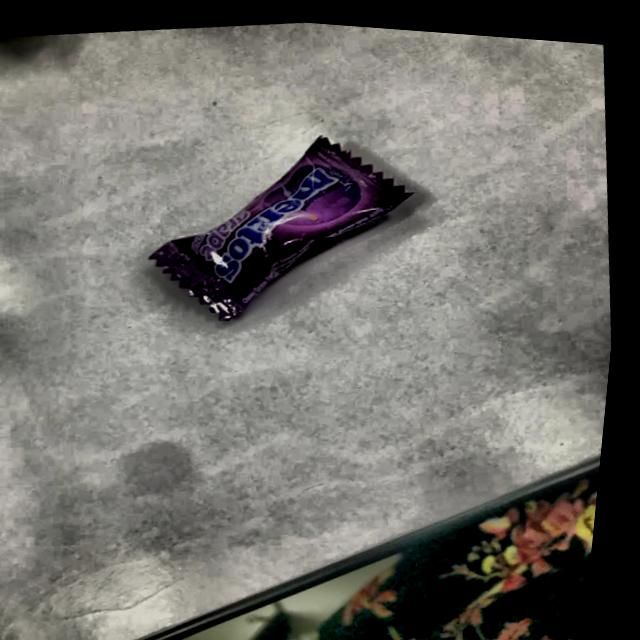Plastic: (153, 132, 409, 309)
